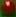brown: (0, 0, 16, 17)
